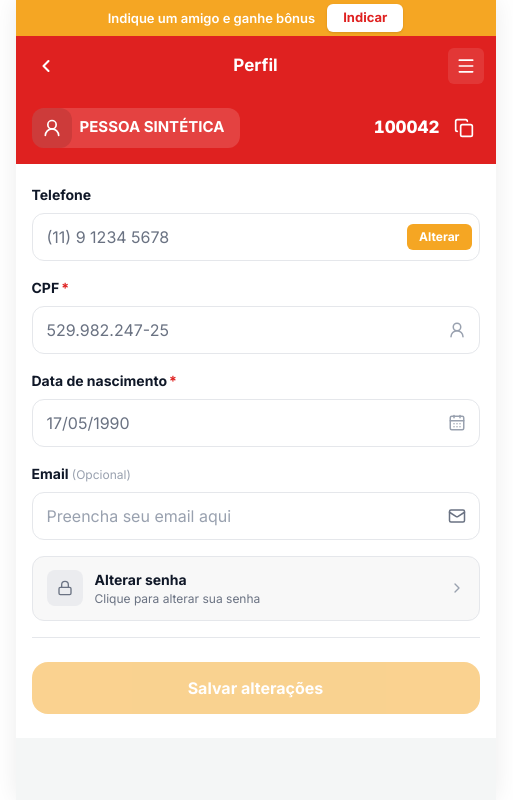
Scenario: Perfil: copiar ID › sem permissão de cópia, avisa sem quebrar
The width and height of the screenshot is (513, 800).
Step 1. Click the button named "Copiar ID" → (464, 128), box [448,112,480,144]
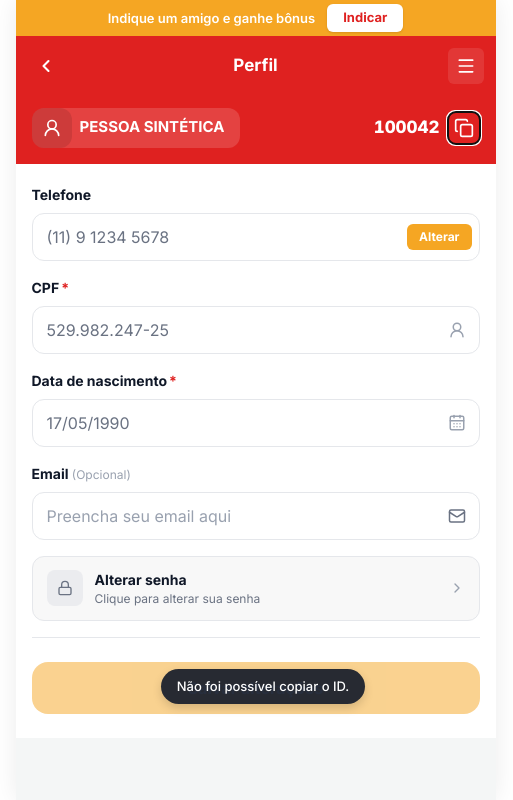
Expected: the text "Não foi possível copiar o ID." is shown, [161,668,365,704]
